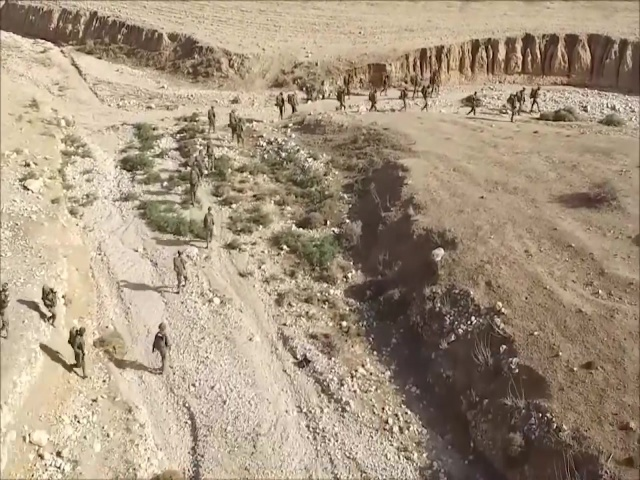person: (65, 325, 89, 379), (151, 320, 173, 373), (171, 248, 191, 294), (41, 285, 60, 327), (186, 162, 200, 206), (1, 281, 11, 340), (529, 86, 544, 117), (203, 207, 215, 245), (204, 104, 218, 133), (418, 84, 432, 112), (234, 119, 246, 150), (275, 90, 287, 121), (397, 85, 410, 112), (336, 88, 348, 114), (227, 107, 237, 137), (368, 88, 380, 113), (466, 92, 478, 117), (289, 89, 300, 116), (508, 91, 517, 124), (517, 87, 526, 115)
